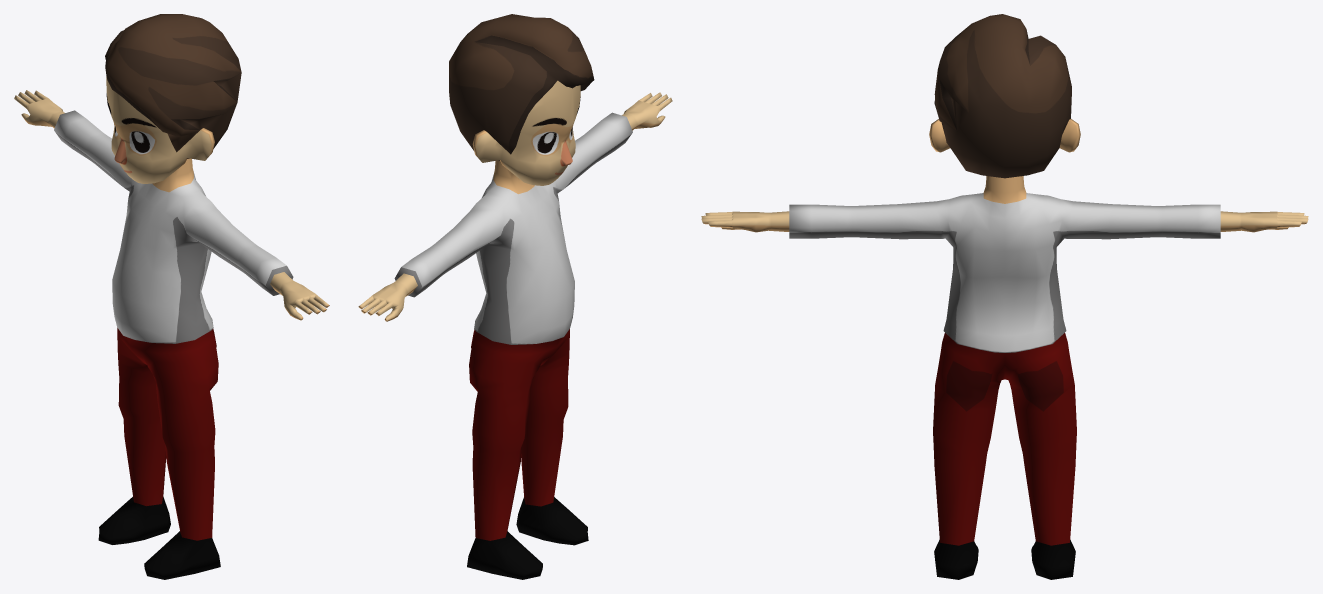
File: boy_3.fbx
3 renders of one model, left to right at view 1: azimuth 30°, elevation 25°; view 2: azimuth 150°, elevation 25°; view 3: azimuth 270°, elevation 25°, orthographic. The views are drawn at different scales.
Parts seen in each view (by area): view 1: boy3; view 2: boy3; view 3: boy3.
Boxes of the visible parts, bbox=[...] form: boy3: bbox=[14, 14, 329, 579]; boy3: bbox=[358, 14, 672, 579]; boy3: bbox=[701, 14, 1308, 579].
Size of the model in its own units: 36.02 by 147 by 150.
Materials: 1 (1 with a texture image).
